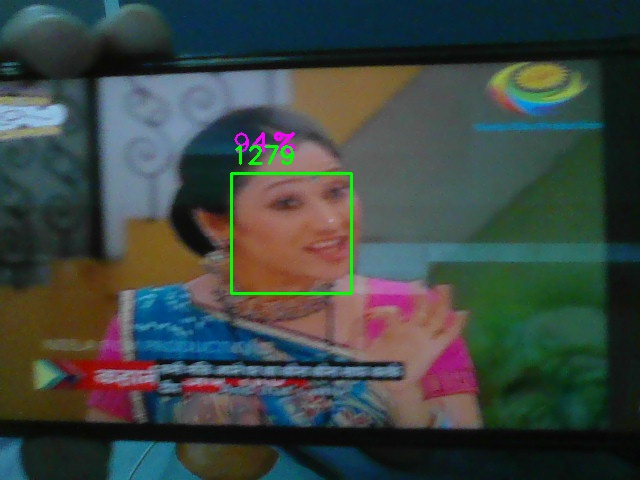fake: (231, 173, 352, 294)
